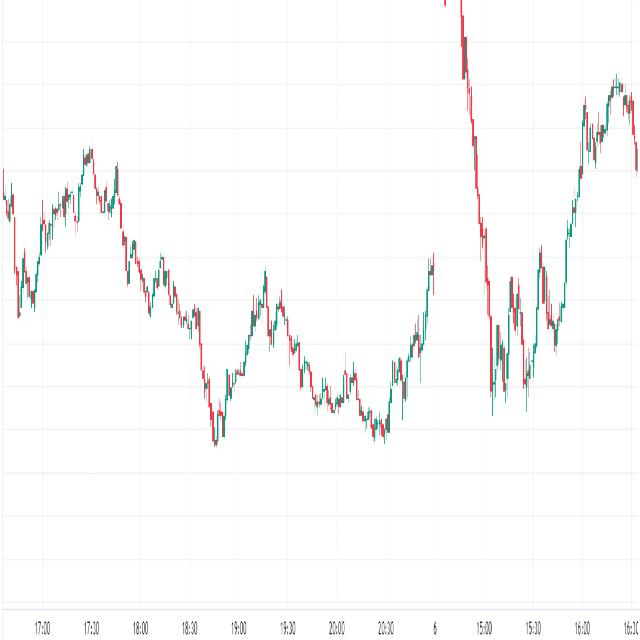Double-Bottom: (10, 229, 44, 328)
Rounding-Bottom: (280, 282, 437, 462)
